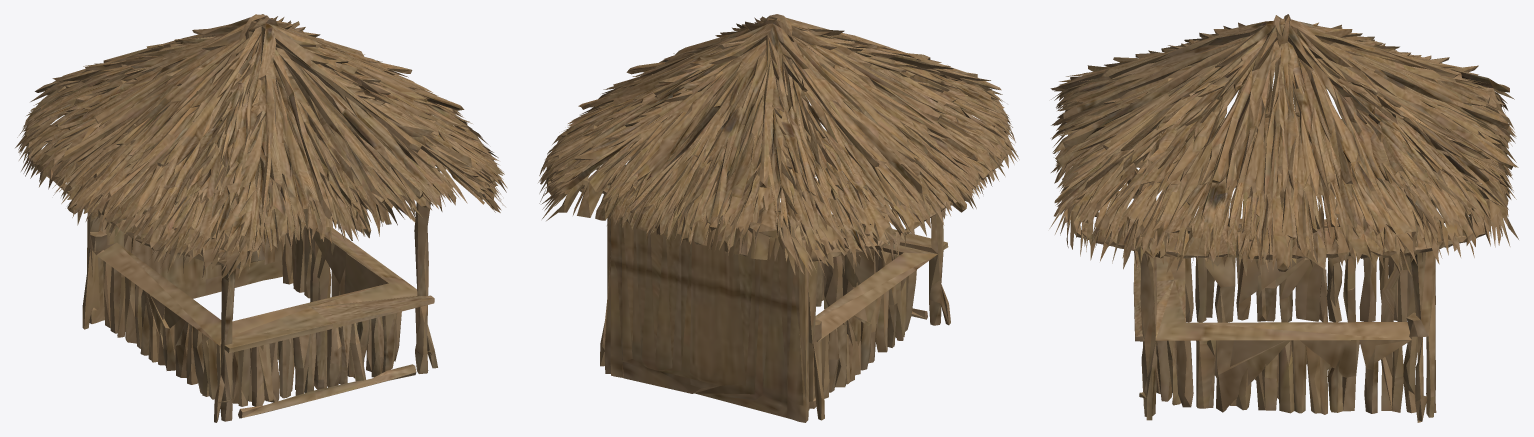
Rendered from capanna_tiki.glb.
3 renders of one model, left to right at view 1: azimuth 30°, elevation 25°; view 2: azimuth 150°, elevation 25°; view 3: azimuth 270°, elevation 25°, orthographic. The views are drawn at different scales.
Visible parts, largest first — view 1: Mesh_0; view 2: Mesh_0; view 3: Mesh_0.
Part boxes in pixels (x1,y1,x2,y2): Mesh_0: (15, 14, 507, 422); Mesh_0: (538, 14, 1019, 422); Mesh_0: (1049, 14, 1518, 422).
Bounding box in the file's own units: 2.6 × 2.14 × 2.61.
Materials: 1 (1 with a texture image).
